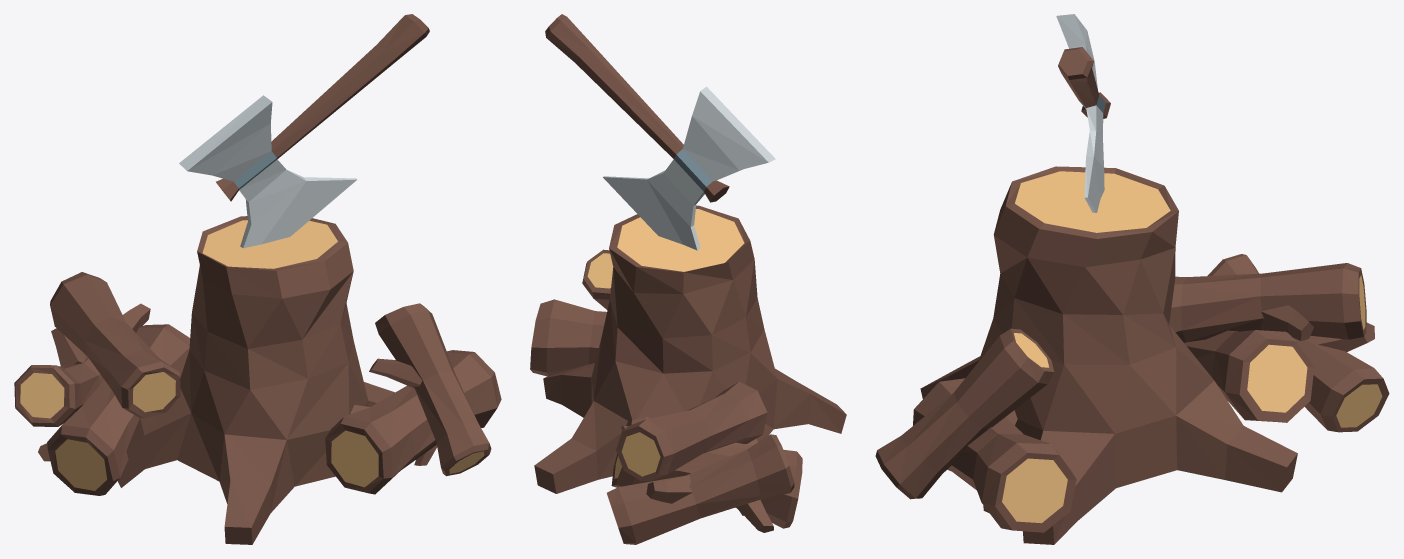
The picture shows the model from 3 angles, left to right: view 1: azimuth 30°, elevation 25°; view 2: azimuth 150°, elevation 25°; view 3: azimuth 270°, elevation 25°; orthographic projection. The views are drawn at different scales.
Parts seen in each view (by area): view 1: group_1045108175; view 2: group_1045108175; view 3: group_1045108175.
Boxes of the visible parts, bbox=[...] form: group_1045108175: bbox=[14, 14, 501, 544]; group_1045108175: bbox=[530, 14, 846, 544]; group_1045108175: bbox=[875, 14, 1389, 544].
Size of the model in its own units: 27.07 by 30.23 by 27.75.
